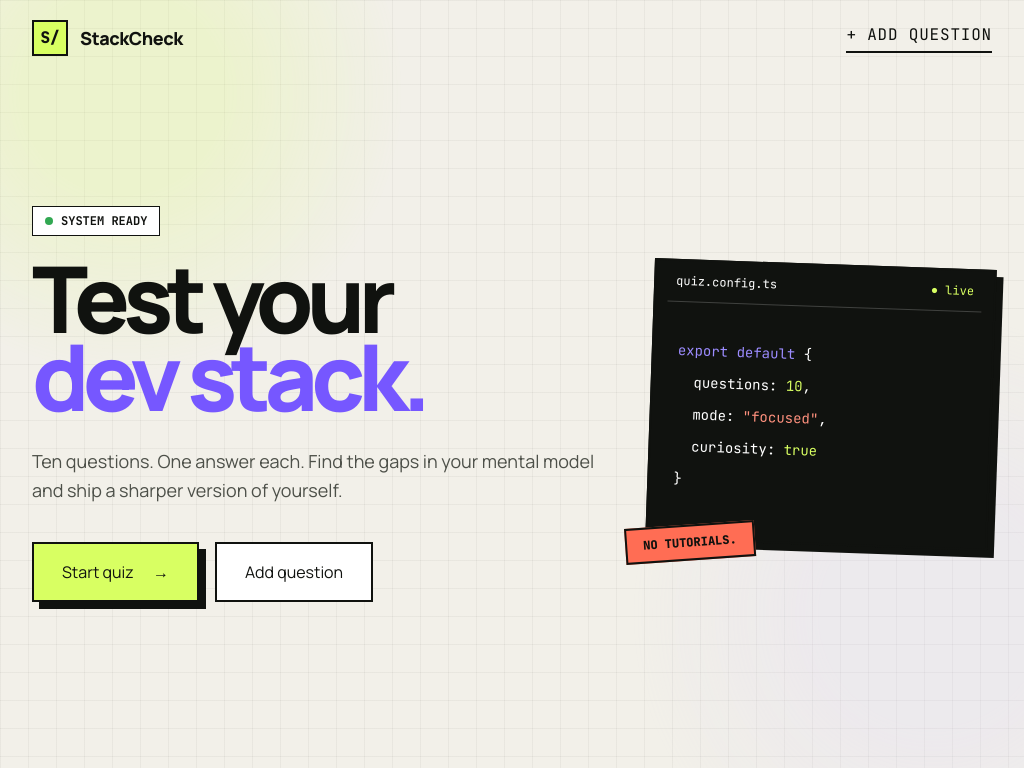
Scenario: QuizApp › shows the developer homepage and opens the add-question dialog
The width and height of the screenshot is (1024, 768).
Expected: the heading named "test your dev stack" is shown, [32,235,425,439]
Step 1. Click the button "Add question" → click(294, 572), box [215,542,373,602]
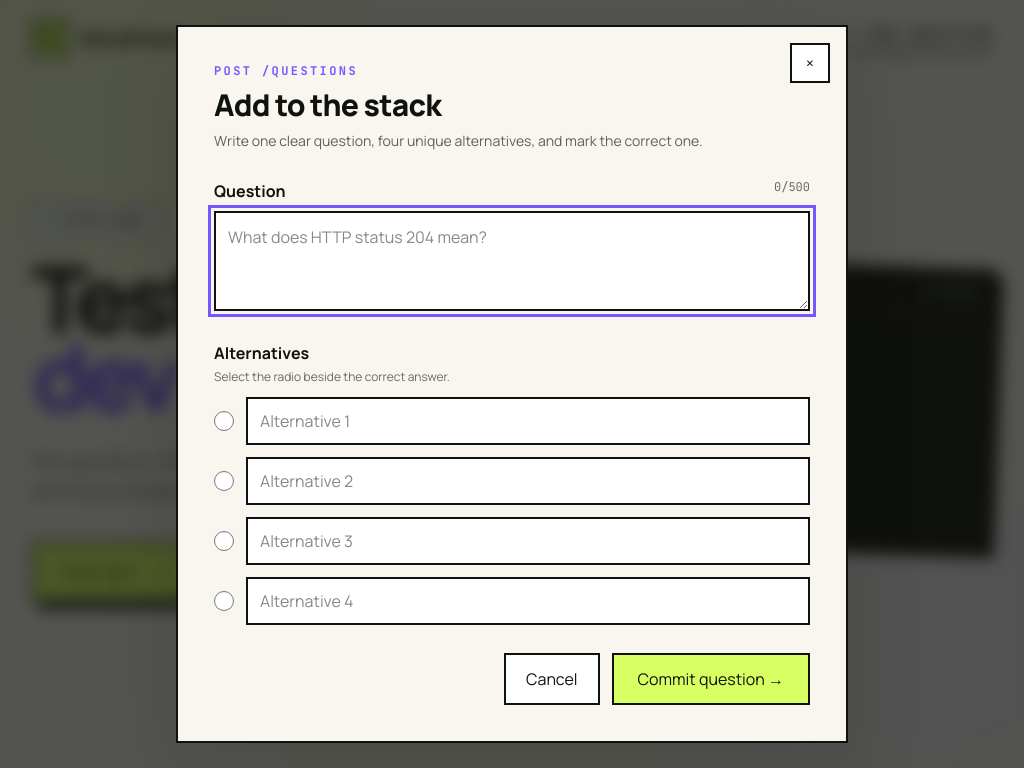
Result: the dialog "Add to the stack" is shown
